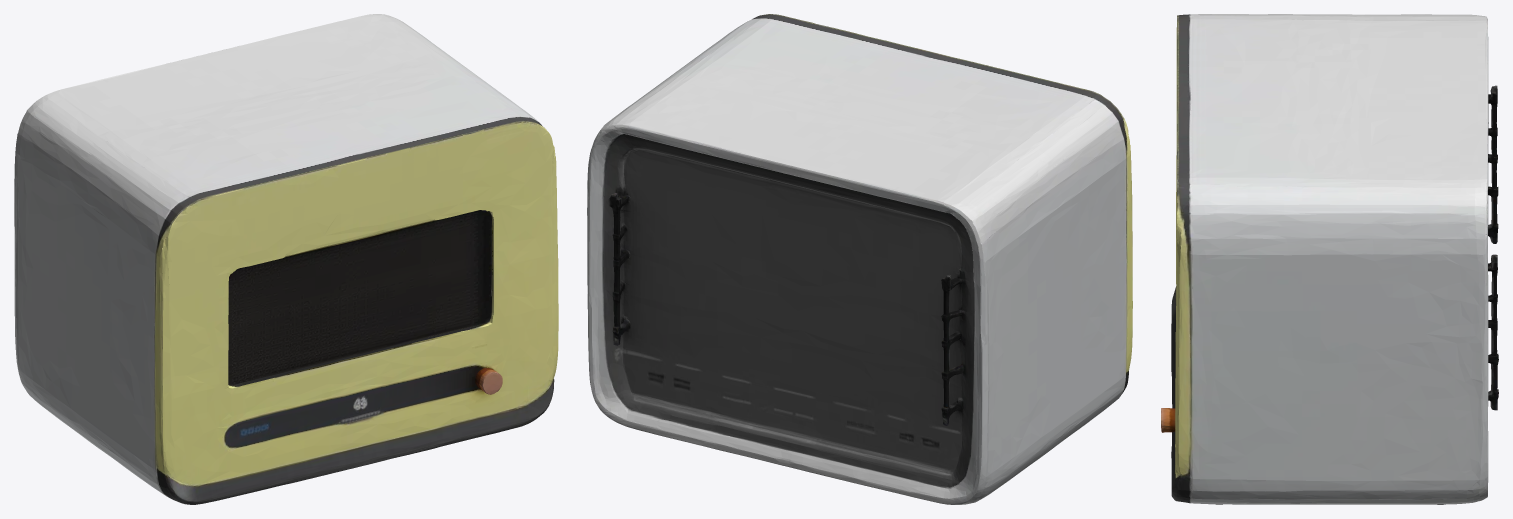
Rendered from 5f7024f0-dfa8-44dc-b1e9-a15b40ae9331.glb.
The picture shows the model from 3 angles, left to right: view 1: azimuth 30°, elevation 25°; view 2: azimuth 150°, elevation 25°; view 3: azimuth 270°, elevation 25°; orthographic projection. The views are drawn at different scales.
Visible parts, largest first — view 1: world; view 2: world; view 3: world.
Boxes of the visible parts, left/top/right/bottom form: world: left=14, top=14, right=558, bottom=504; world: left=587, top=14, right=1132, bottom=504; world: left=1161, top=14, right=1498, bottom=504.
Size of the model in its own units: 0.9968 by 0.7606 by 0.7037.
1 material, 1 textured.
